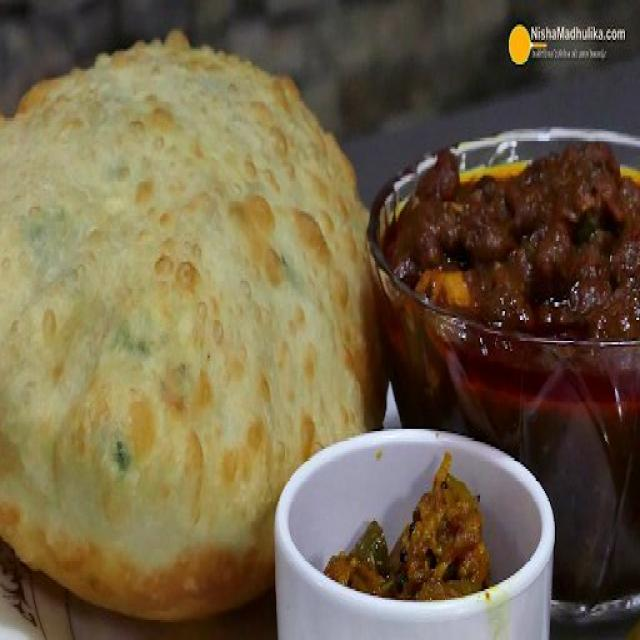puri: (0, 33, 386, 618)
